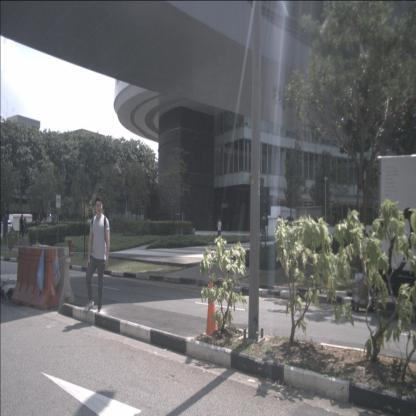barrier: (11, 246, 60, 310), (36, 246, 75, 306)
cone: (205, 281, 219, 338)
